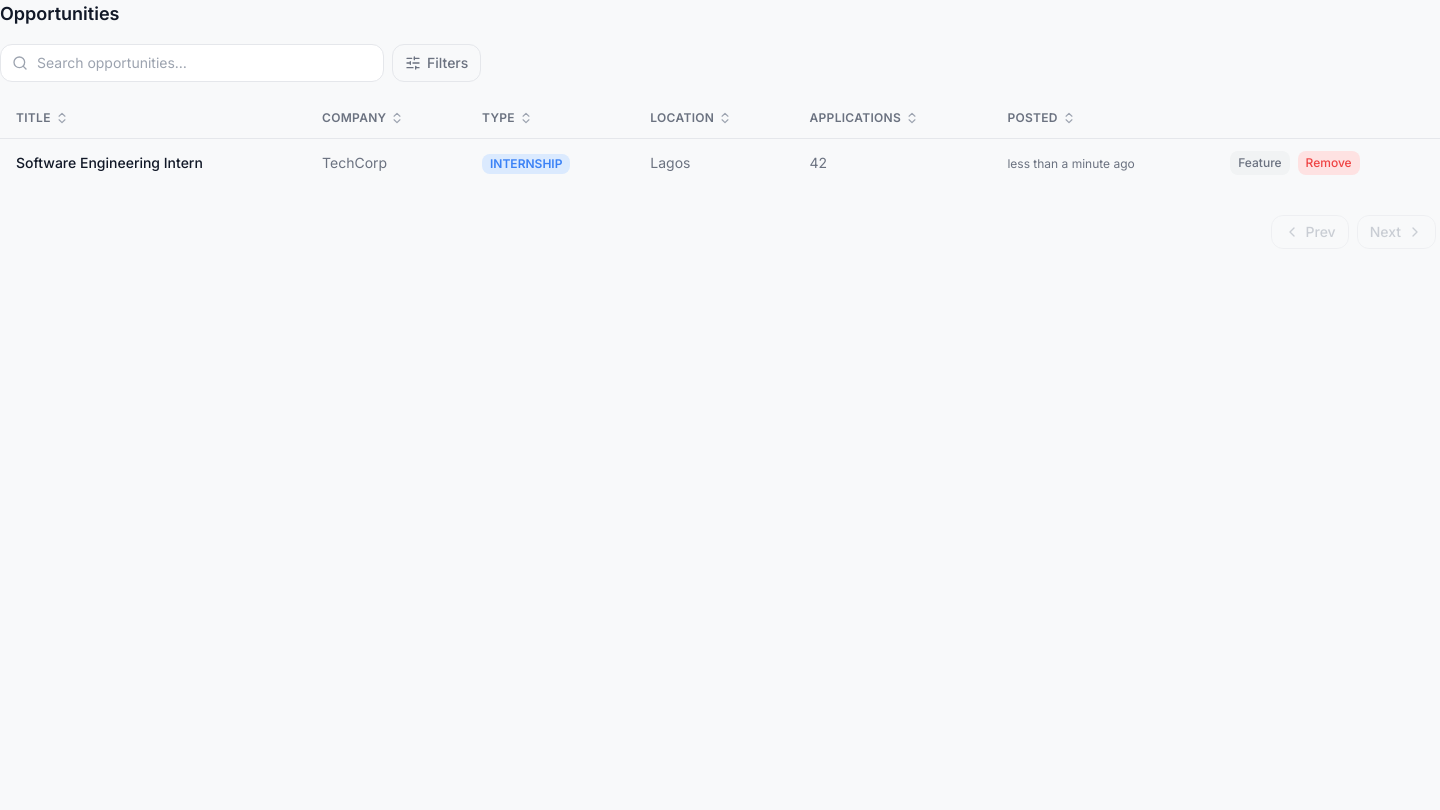
Test: OpportunitiesPage › shows remove confirm modal on remove click
The width and height of the screenshot is (1440, 810).
Click the button with test id "remove-opp-opp1" at coordinates (1329, 163), box [1298,151,1360,175]
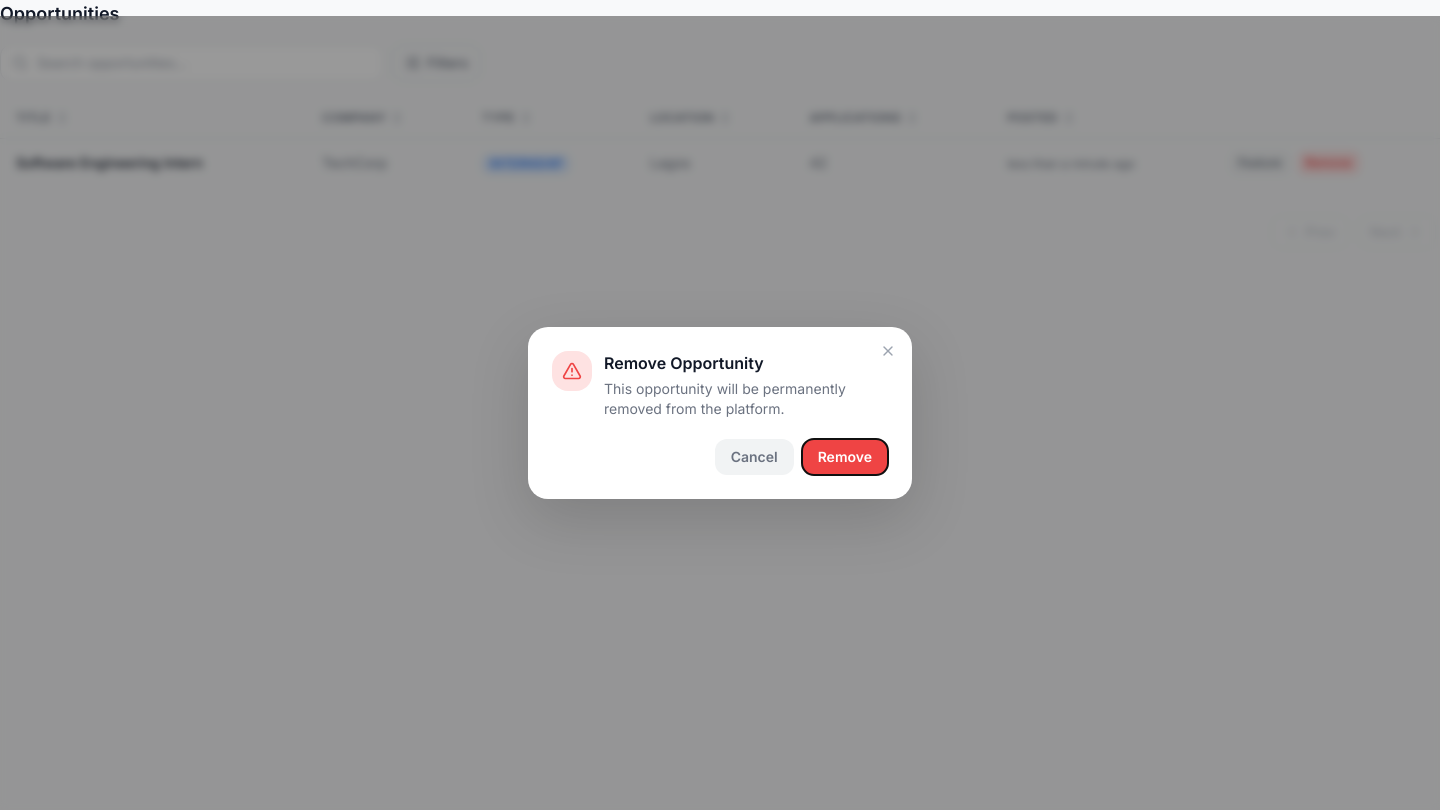
expect the heading "Remove Opportunity" is shown: met, box [604,353,764,373]
